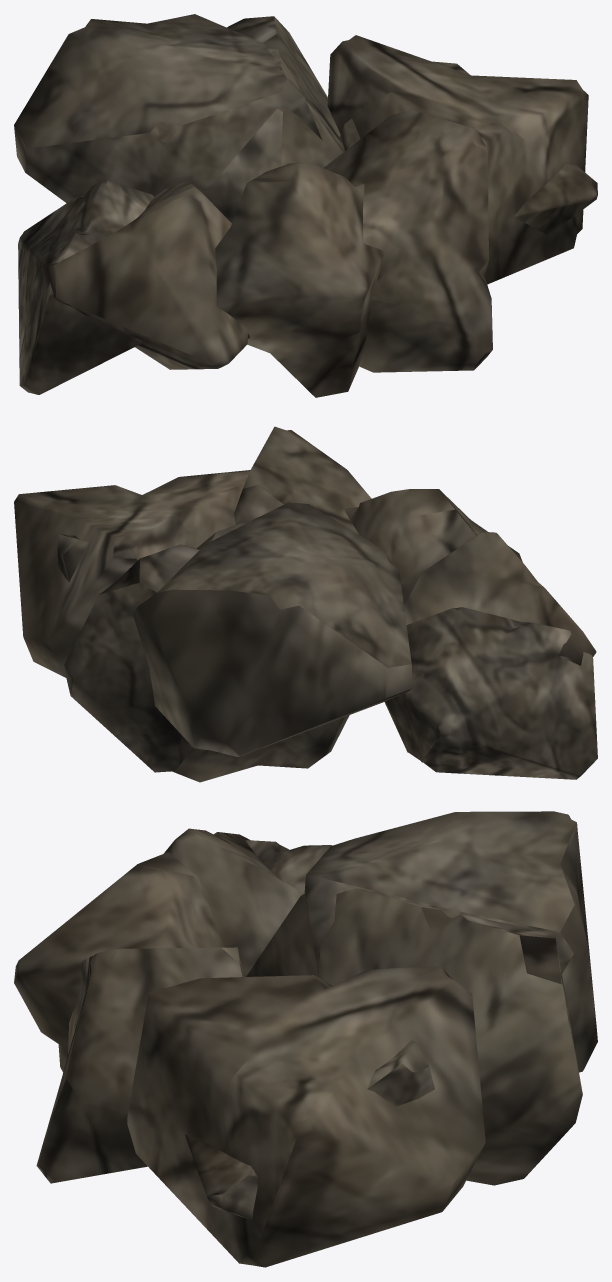
Rendered from MEP_C_ClusterStone_Grps_N.fbx.
The picture shows the model from 3 angles, top to bottom: view 1: azimuth 30°, elevation 25°; view 2: azimuth 150°, elevation 25°; view 3: azimuth 270°, elevation 25°; orthographic projection. The views are drawn at different scales.
Parts seen in each view (by area): view 1: MEP_C_ClusterStone_Grp_01, MEP_C_ClusterStone_Grp_02; view 2: MEP_C_ClusterStone_Grp_01, MEP_C_ClusterStone_Grp_02; view 3: MEP_C_ClusterStone_Grp_01, MEP_C_ClusterStone_Grp_02.
Part boxes in pixels (left/top/right/bottom): MEP_C_ClusterStone_Grp_01: left=14, top=14, right=588, bottom=397; MEP_C_ClusterStone_Grp_02: left=41, top=16, right=597, bottom=372; MEP_C_ClusterStone_Grp_01: left=14, top=470, right=597, bottom=779; MEP_C_ClusterStone_Grp_02: left=57, top=426, right=596, bottom=782; MEP_C_ClusterStone_Grp_01: left=14, top=811, right=597, bottom=1267; MEP_C_ClusterStone_Grp_02: left=36, top=828, right=582, bottom=1219.
Size of what is drawn, in the model's own units: 161 by 66.84 by 119.
1 material, 1 textured.
